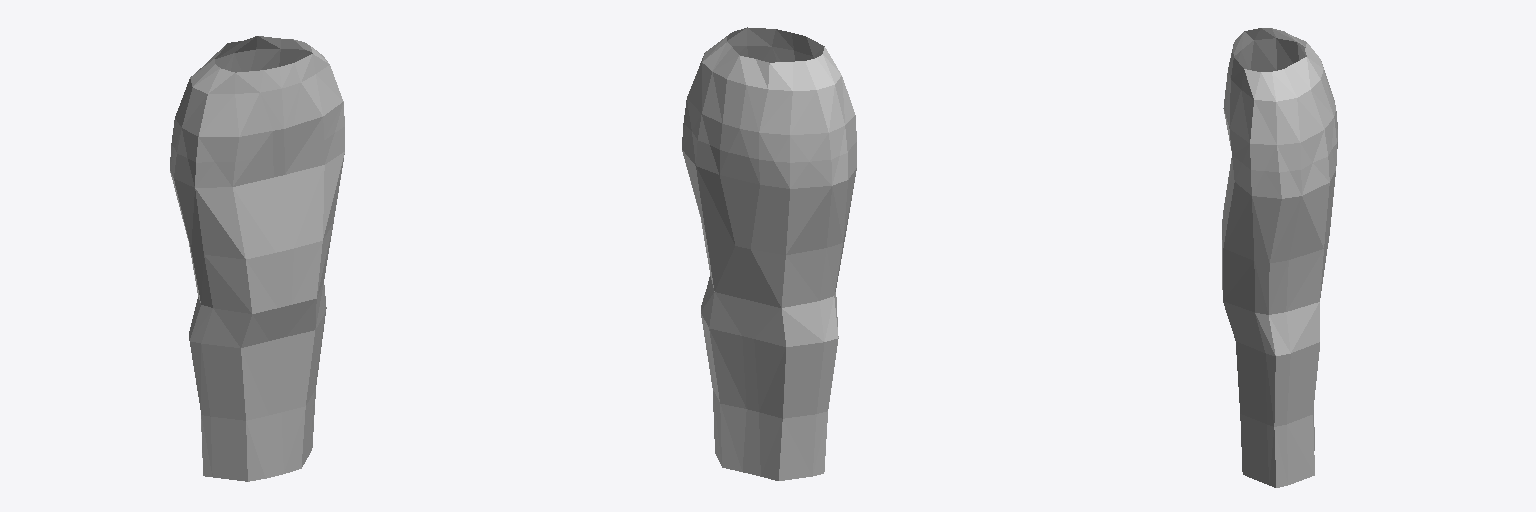
File: avatar_skirt-skirt_smallbutt.obj
The picture shows the model from 3 angles: view 1: azimuth 30°, elevation 25°; view 2: azimuth 150°, elevation 25°; view 3: azimuth 270°, elevation 25°; orthographic projection.
Parts seen in each view (by area): view 1: g1_avatar_skirt; view 2: g1_avatar_skirt; view 3: g1_avatar_skirt.
Part boxes in pixels (x1,y1,x2,y2): g1_avatar_skirt: (170, 36, 344, 481); g1_avatar_skirt: (682, 27, 856, 480); g1_avatar_skirt: (1222, 28, 1337, 487).
Bounding box in the file's own units: 0.4622 × 1.12 × 0.2863.